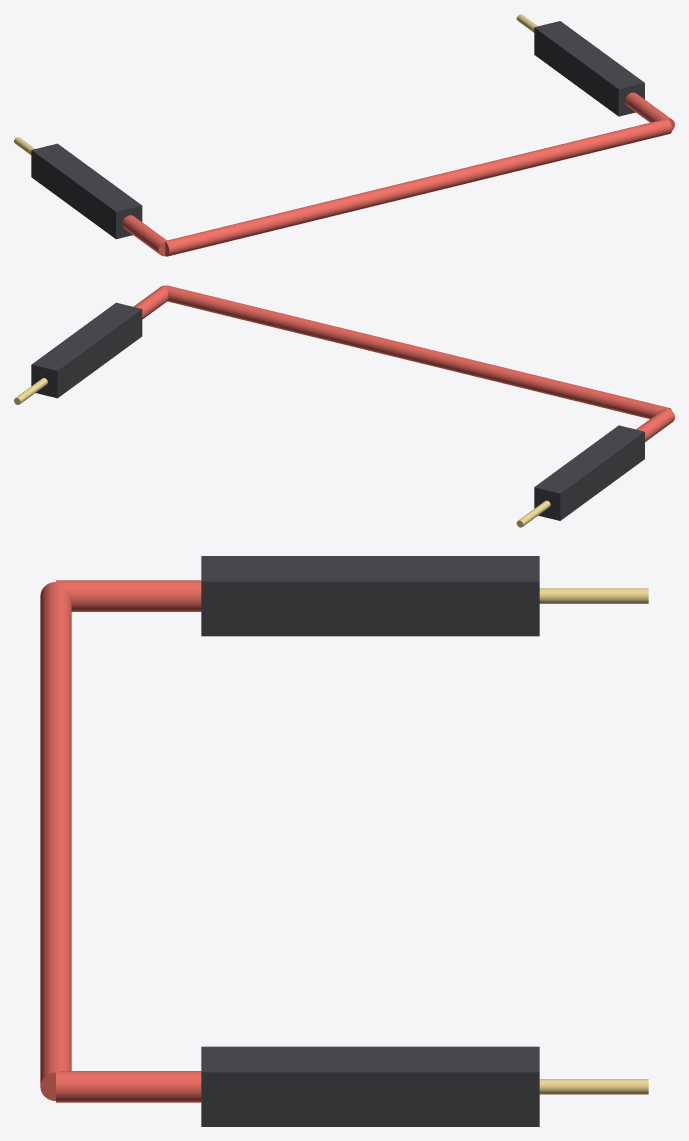
Rendered from jumper.glb.
3 renders of one model, top to bottom at view 1: azimuth 30°, elevation 25°; view 2: azimuth 150°, elevation 25°; view 3: azimuth 270°, elevation 25°, orthographic. The views are drawn at different scales.
Parts seen in each view (by area): view 1: wire-mid, housing-a, housing-b, wire-a, wire-b; view 2: wire-mid, housing-b, housing-a, wire-a, wire-b; view 3: housing-a, housing-b, wire-mid, wire-b, wire-a, pin-a, pin-b.
Part boxes in pixels (x1=…): wire-mid: x1=165, y1=119, x2=671, y2=256; housing-a: x1=31, y1=143, x2=142, y2=239; housing-b: x1=534, y1=21, x2=644, y2=116; wire-a: x1=122, y1=215, x2=166, y2=256; wire-b: x1=625, y1=92, x2=674, y2=130; wire-mid: x1=166, y1=285, x2=671, y2=418; housing-b: x1=31, y1=302, x2=142, y2=398; housing-a: x1=534, y1=425, x2=644, y2=520; wire-a: x1=636, y1=408, x2=674, y2=441; wire-b: x1=133, y1=285, x2=168, y2=319; housing-a: x1=201, y1=556, x2=539, y2=636; housing-b: x1=201, y1=1046, x2=539, y2=1126; wire-mid: x1=40, y1=582, x2=71, y2=1100; wire-b: x1=56, y1=1071, x2=201, y2=1102; wire-a: x1=56, y1=580, x2=201, y2=611; pin-a: x1=539, y1=588, x2=648, y2=603; pin-b: x1=539, y1=1079, x2=648, y2=1094.
Bounding box in the file's own units: 0.0505 × 0.0025 × 0.0252.
